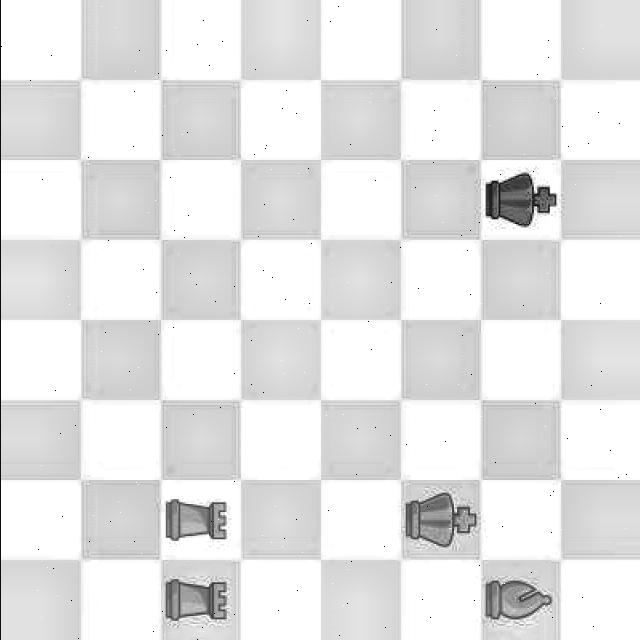black king: (480, 164, 560, 234)
white bishop: (480, 564, 560, 640)
white king: (402, 484, 481, 554)
white rook: (162, 567, 226, 630), (162, 494, 225, 550)
